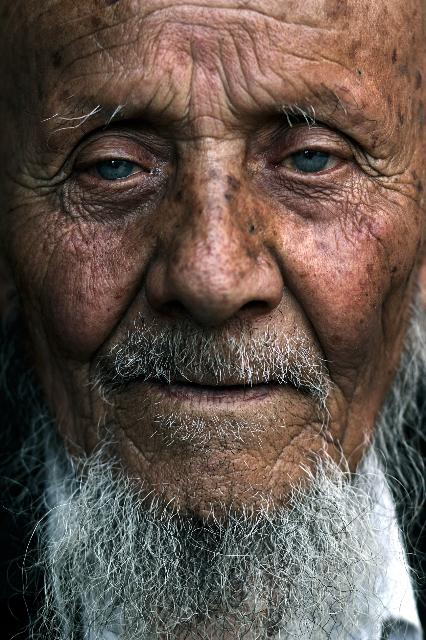chin: (286, 406, 330, 456), (113, 422, 158, 462)
crows_feet: (362, 150, 400, 207), (32, 165, 72, 217)
forehead: (68, 29, 154, 83), (227, 26, 294, 92), (146, 0, 260, 18), (178, 39, 202, 97)
frown_line: (176, 112, 240, 152)
gummy_smile: (270, 247, 322, 335), (109, 260, 157, 332)
masseter: (23, 237, 59, 291), (374, 289, 400, 357)
sad_smile: (318, 350, 354, 396), (79, 353, 105, 412)
